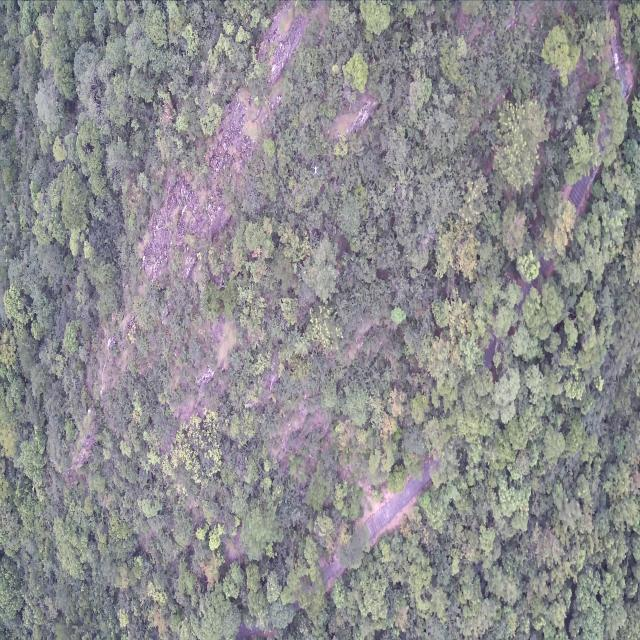drone: (312, 165, 318, 175)
